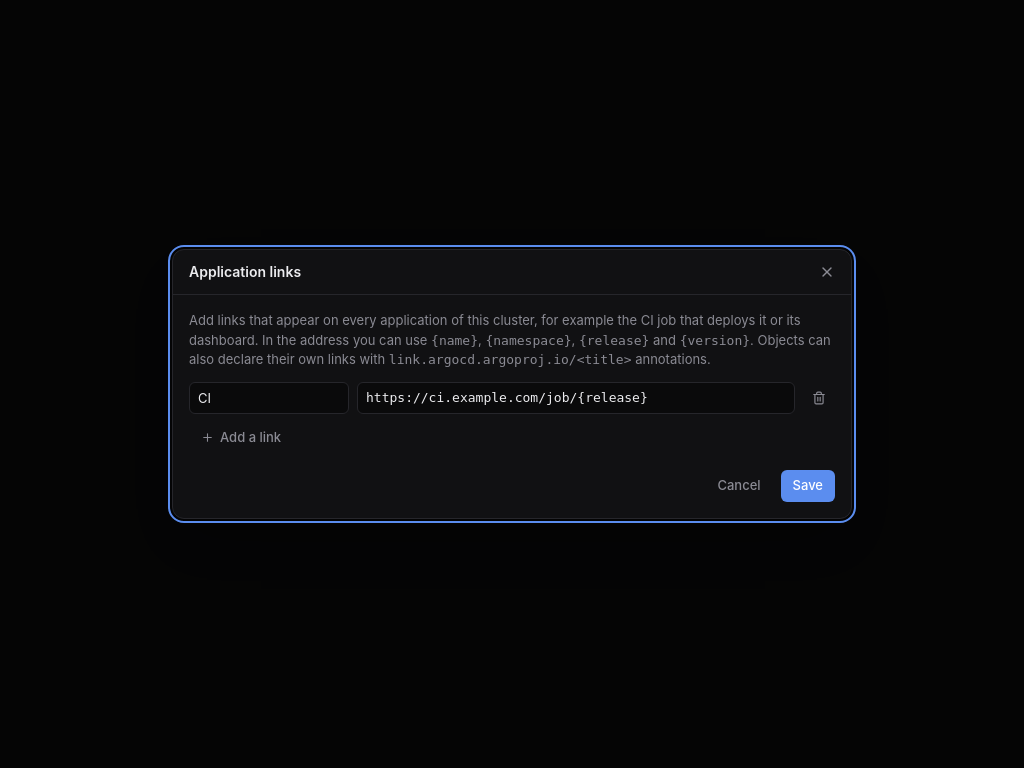
Test: AppLinksDialog › shows the validation error and stays open
The image size is (1024, 768).
Expected: the field showing "CI" is shown, [189,382,349,414]
Click the button "Save" at (808, 486), box [781,470,835,502]
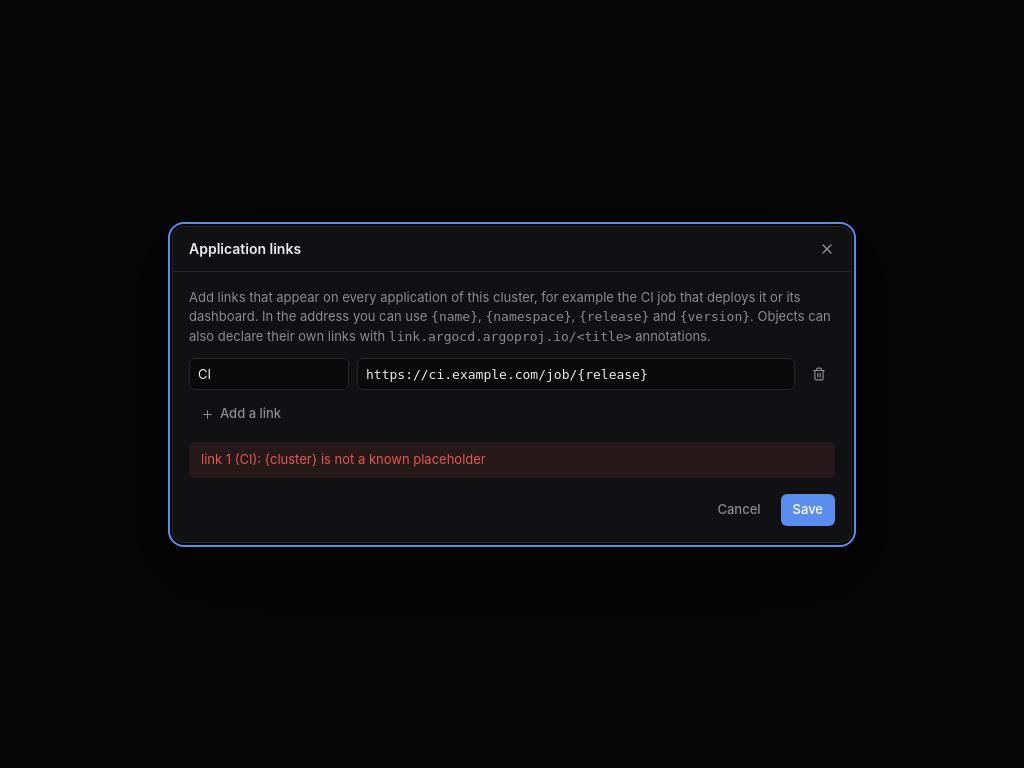
Now the text "link 1 (CI): {cluster} is not a known placeholder" is shown, box [189,442,835,478]
